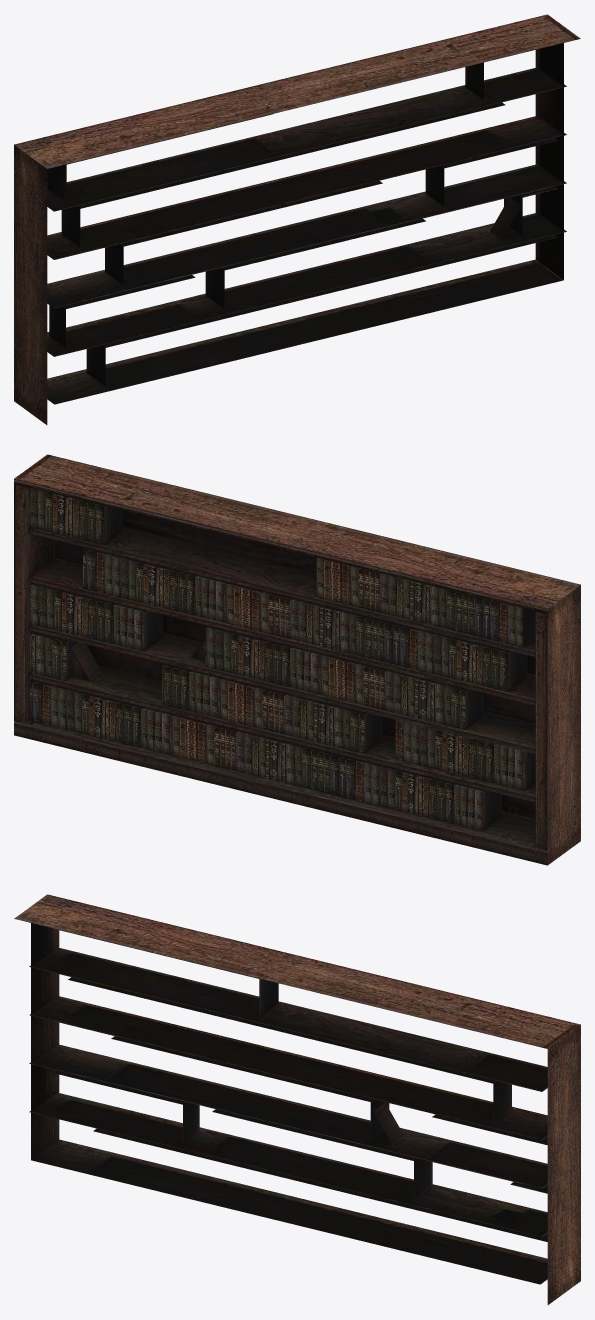
File: bookcase_large.glb
3 views of the same model, one above another, from view 1: azimuth 30°, elevation 25°; view 2: azimuth 150°, elevation 25°; view 3: azimuth 330°, elevation 25° (orthographic).
Visible parts, largest first — view 1: 0_bookcase_large; view 2: 0_bookcase_large; view 3: 0_bookcase_large.
Boxes of the visible parts, bbox=[...] form: 0_bookcase_large: bbox=[14, 14, 580, 424]; 0_bookcase_large: bbox=[14, 454, 580, 865]; 0_bookcase_large: bbox=[14, 894, 580, 1304].
Bounding box in the file's own units: 3.76 × 1.73 × 0.4071.
Materials: 1 (1 with a texture image).
